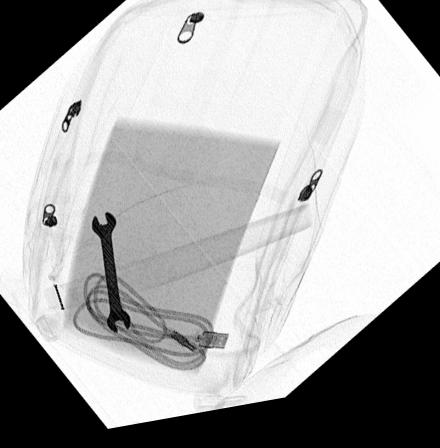Wrench: (88, 214, 131, 338)
